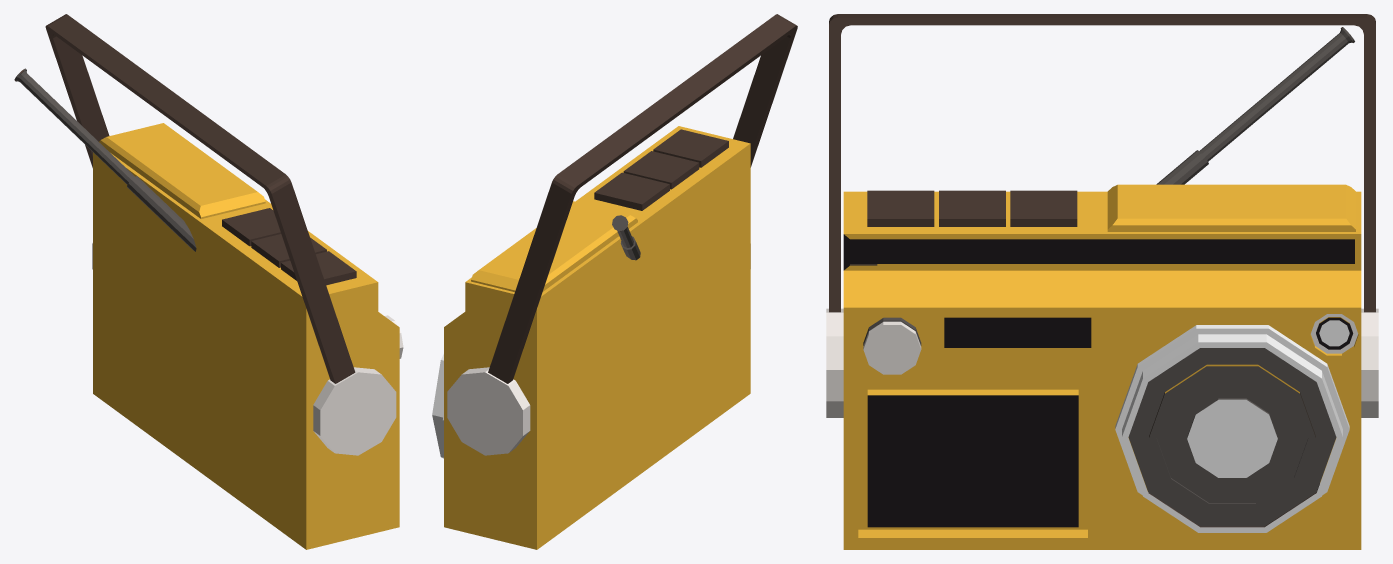
File: Radio.fbx
The picture shows the model from 3 angles, left to right: view 1: azimuth 30°, elevation 25°; view 2: azimuth 150°, elevation 25°; view 3: azimuth 270°, elevation 25°; orthographic projection. The views are drawn at different scales.
Visible parts, largest first — view 1: Plane; view 2: Plane; view 3: Plane.
Part boxes in pixels (bbox=[...]): Plane: bbox=[14, 14, 403, 549]; Plane: bbox=[432, 14, 797, 549]; Plane: bbox=[826, 14, 1378, 549].
Size of the model in its own units: 75.97 by 140 by 151.
